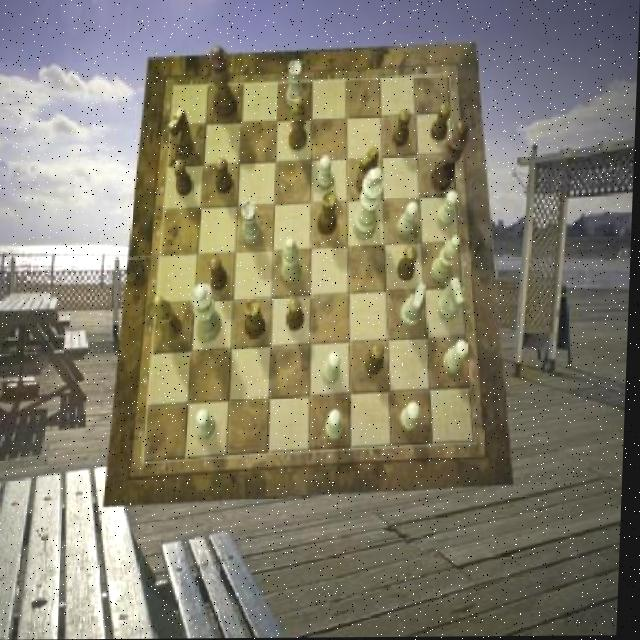bishop: (155, 294, 185, 340), (290, 97, 310, 152)
black-bishop: (431, 120, 470, 193)
black-king: (169, 108, 197, 159), (357, 147, 381, 196)
black-knight: (433, 104, 454, 142), (216, 157, 236, 195), (174, 160, 195, 196), (394, 108, 413, 147), (211, 257, 232, 291), (399, 247, 420, 281), (289, 298, 308, 332), (368, 344, 386, 377)
black-pawn: (207, 46, 240, 121)
black-queen: (245, 300, 269, 340), (319, 192, 340, 236)
black-rook: (433, 238, 462, 285), (284, 238, 306, 284)
white-bishop: (354, 168, 387, 241)
white-king: (440, 278, 468, 321), (403, 284, 428, 329)
white-knight: (446, 340, 471, 374), (438, 191, 460, 229), (399, 202, 421, 237), (404, 402, 425, 433), (200, 409, 220, 440), (324, 352, 342, 386), (319, 157, 336, 191), (329, 410, 347, 441)
white-pawn: (191, 285, 225, 345)
white-queen: (242, 200, 264, 244), (287, 61, 306, 110)
